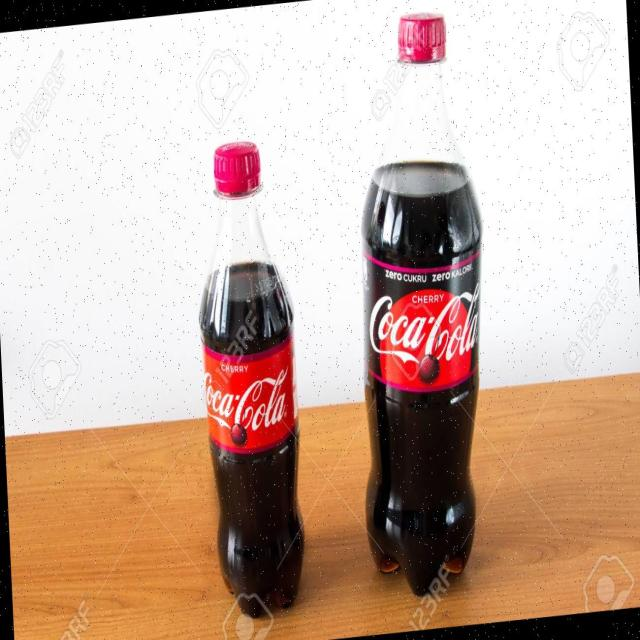coca-cola: (341, 2, 505, 606), (180, 122, 321, 624)
